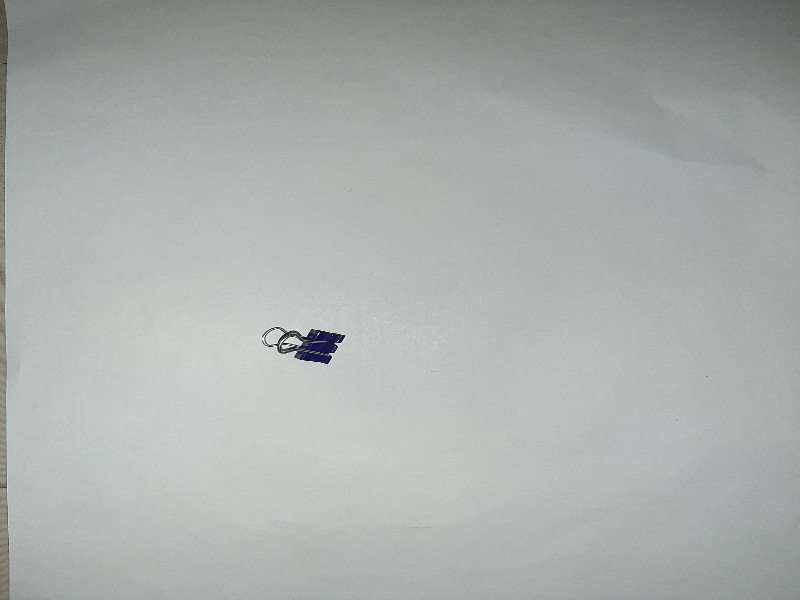Small Paperclip: (259, 320, 348, 372)
